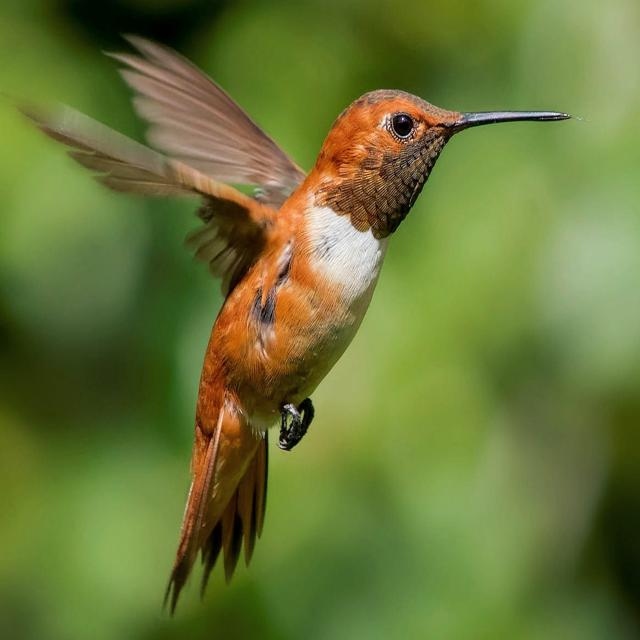hummingbird: (21, 35, 570, 613)
